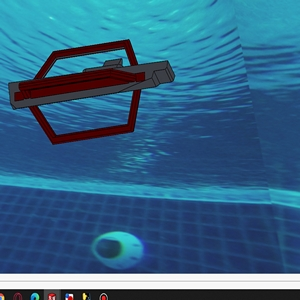submarine: (7, 39, 176, 144)
